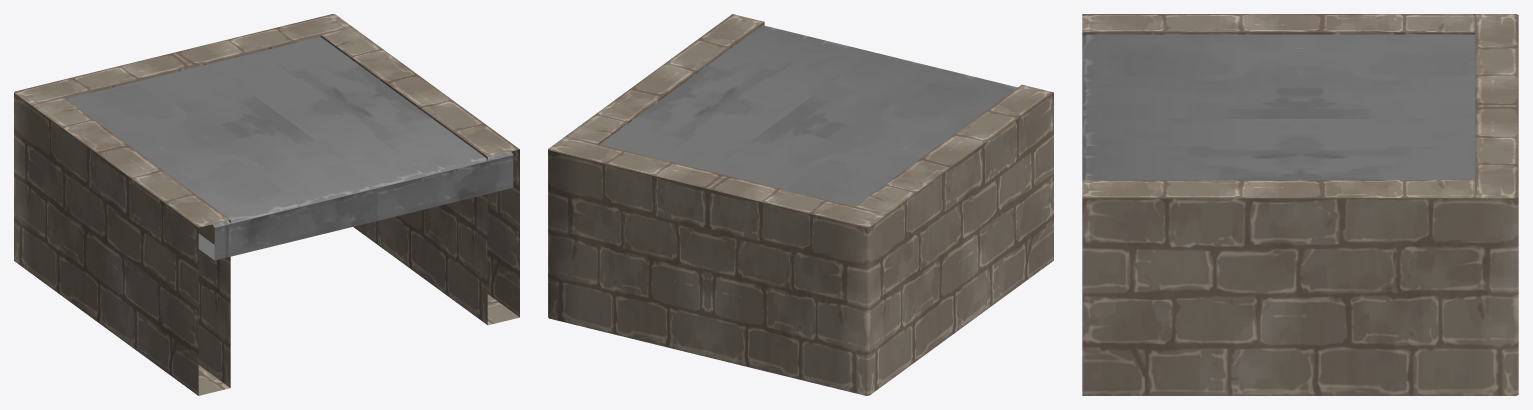
The model's file is Stairs_Exterior_PlatformU.gltf.
The picture shows the model from 3 angles, left to right: view 1: azimuth 30°, elevation 25°; view 2: azimuth 150°, elevation 25°; view 3: azimuth 270°, elevation 25°; orthographic projection. The views are drawn at different scales.
Visible parts, largest first — view 1: Stairs_Exterior_PlatformU; view 2: Stairs_Exterior_PlatformU; view 3: Stairs_Exterior_PlatformU.
Part boxes in pixels (x1,y1,x2,y2): Stairs_Exterior_PlatformU: (14, 14, 519, 395); Stairs_Exterior_PlatformU: (548, 14, 1053, 395); Stairs_Exterior_PlatformU: (1082, 14, 1518, 395).
Size of the model in its own units: 2 by 1 by 2.
2 materials, 2 textured.
